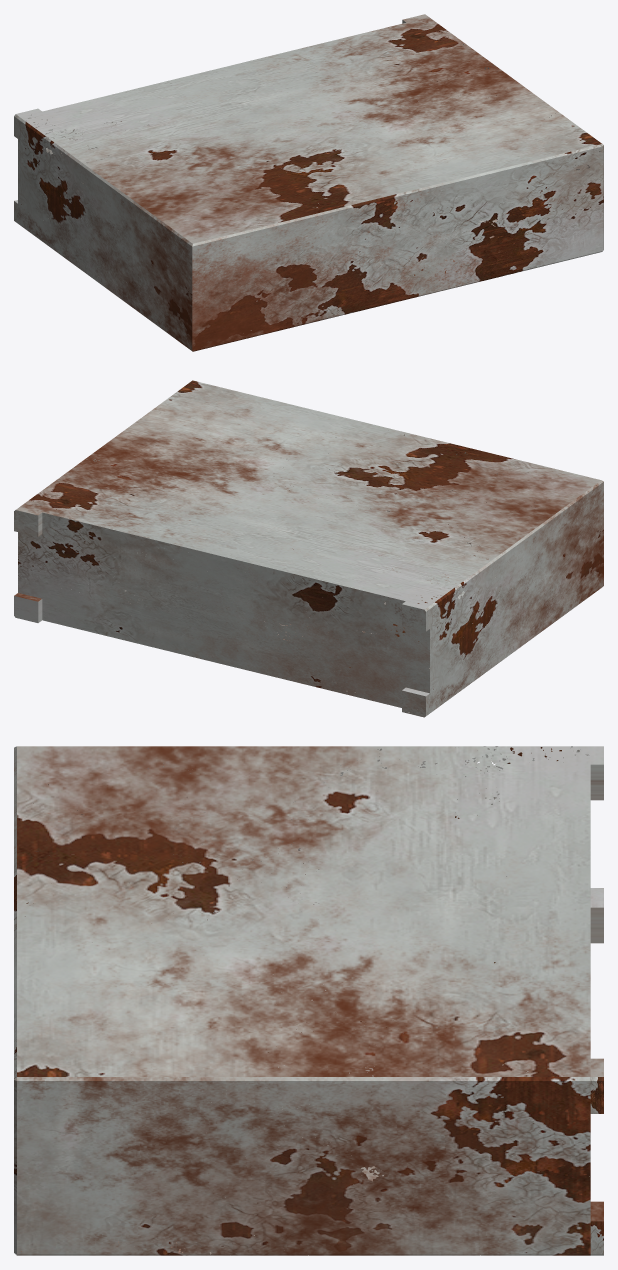
The model's file is 장애물_엎어진사물함 1.fbx.
The picture shows the model from 3 angles, top to bottom: view 1: azimuth 30°, elevation 25°; view 2: azimuth 150°, elevation 25°; view 3: azimuth 270°, elevation 25°; orthographic projection. The views are drawn at different scales.
Visible parts, largest first — view 1: 엎어진사물함; view 2: 엎어진사물함; view 3: 엎어진사물함.
Boxes of the visible parts, left/top/right/bottom form: 엎어진사물함: left=14, top=14, right=603, bottom=351; 엎어진사물함: left=14, top=380, right=603, bottom=717; 엎어진사물함: left=14, top=746, right=603, bottom=1255.
Size of the model in its own units: 200 by 50 by 150.
